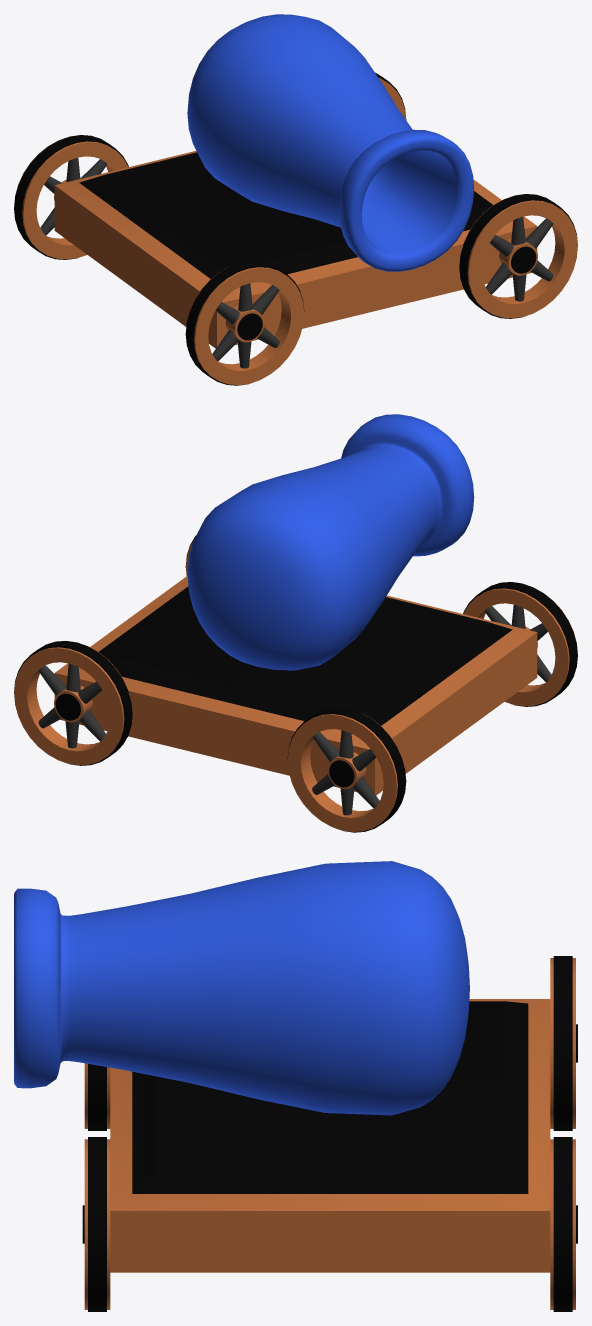
Rendered from Mob_Control.fbx.
3 renders of one model, top to bottom at view 1: azimuth 30°, elevation 25°; view 2: azimuth 150°, elevation 25°; view 3: azimuth 270°, elevation 25°, orthographic. The views are drawn at different scales.
Parts seen in each view (by area): view 1: Plane, Cube.001; view 2: Plane, Cube.001; view 3: Plane, Cube.001.
Boxes of the visible parts, bbox=[...] form: Plane: bbox=[14, 72, 577, 385]; Cube.001: bbox=[187, 14, 474, 271]; Plane: bbox=[14, 535, 577, 832]; Cube.001: bbox=[187, 414, 474, 670]; Plane: bbox=[82, 956, 577, 1311]; Cube.001: bbox=[14, 861, 469, 1115].
Bounding box in the file's own units: 2001 × 1240 × 1871.
